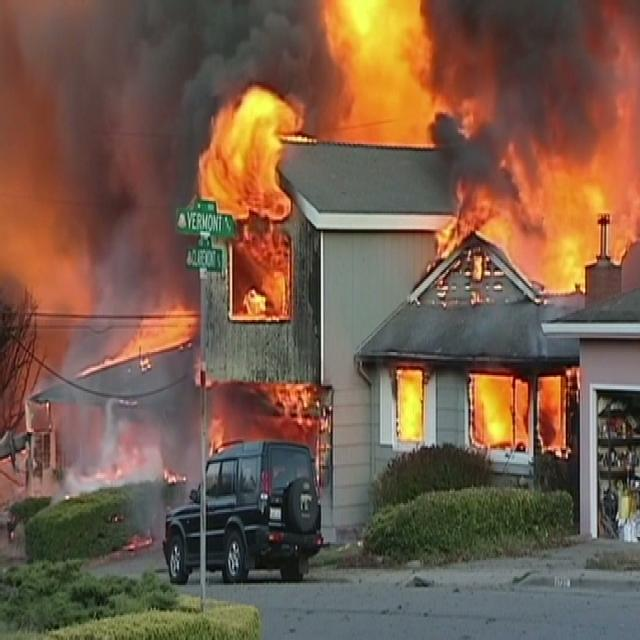Fire: (190, 75, 310, 231), (328, 0, 433, 139), (504, 180, 626, 293), (462, 362, 530, 457), (392, 365, 428, 448)
Smoke: (32, 0, 356, 498), (411, 0, 637, 258)
